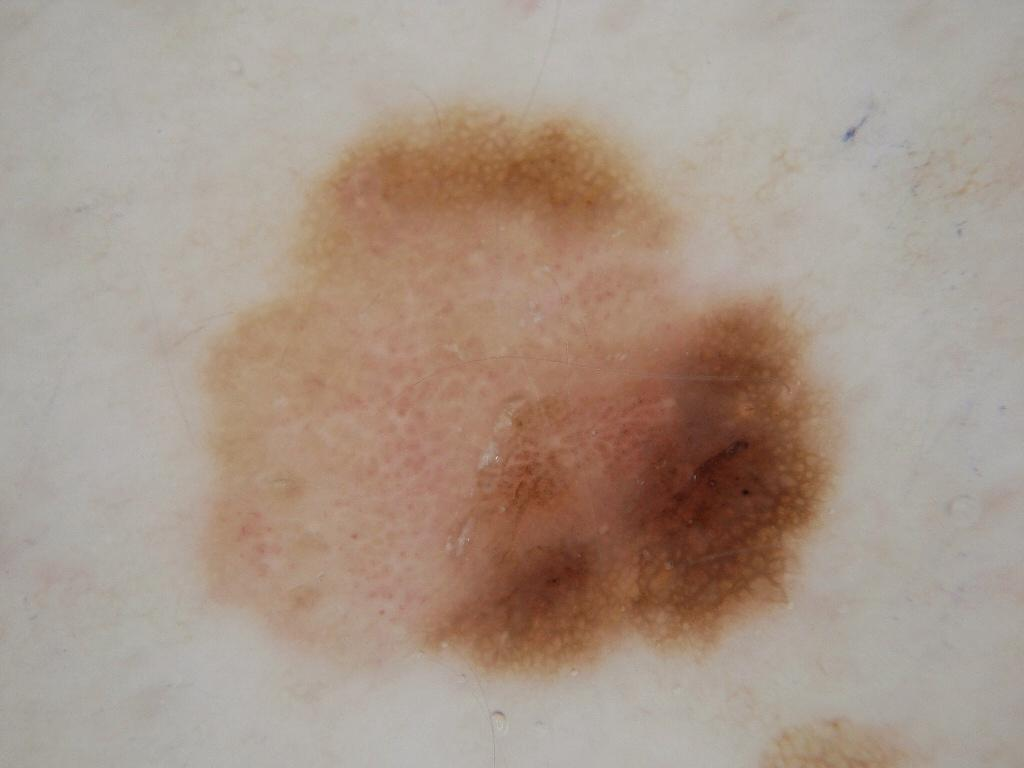Detected Lesion: (187, 100, 843, 685)
